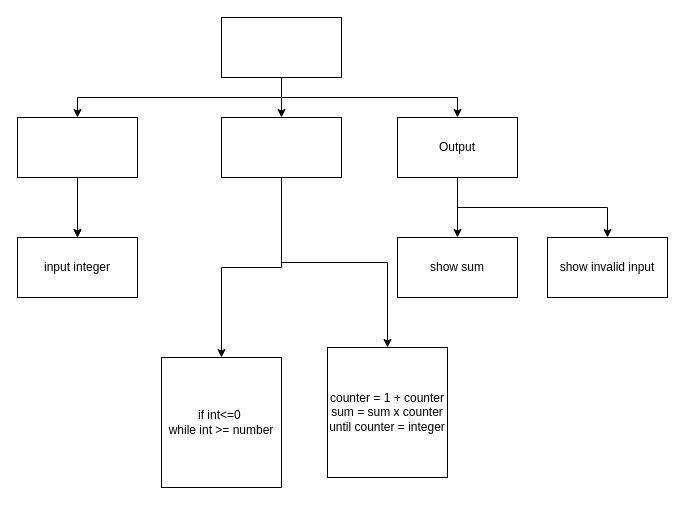
This 685x505 diagram has some shape labels left out. Each missing label, with the centre of its shape:
Input: pixel 77 147
number sum: pixel 281 47
Process: pixel 281 147
